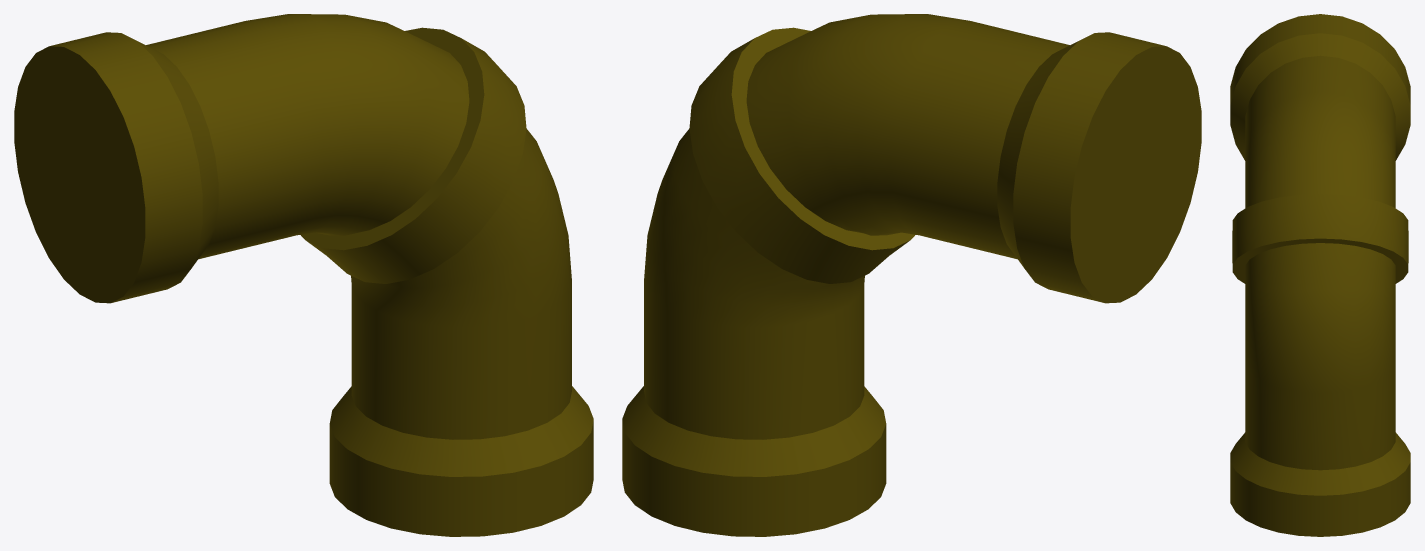
The model's file is LargePipe.fbx.
The picture shows the model from 3 angles, left to right: view 1: azimuth 30°, elevation 25°; view 2: azimuth 150°, elevation 25°; view 3: azimuth 270°, elevation 25°; orthographic projection. The views are drawn at different scales.
Visible parts, largest first — view 1: Pipe; view 2: Pipe; view 3: Pipe.
Boxes of the visible parts, x1,y1,x2,y2 form: Pipe: (14,14,593,536); Pipe: (622,14,1201,536); Pipe: (1230,14,1410,536).
Size of the model in its own units: 5.2 by 5.2 by 2.38.
